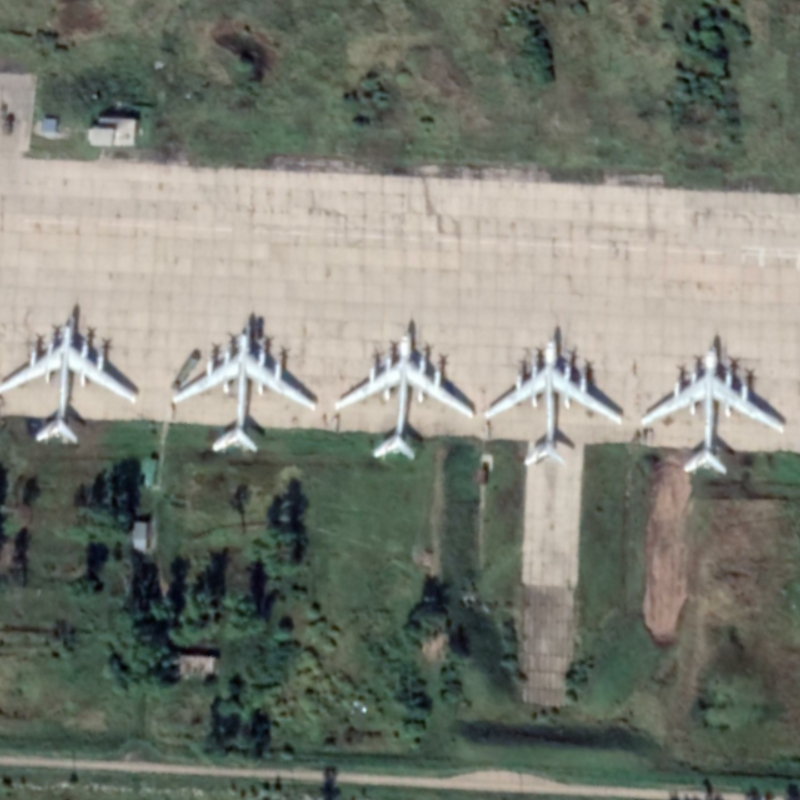A17: (637, 339, 787, 477), (330, 328, 478, 464), (169, 326, 320, 456), (481, 335, 626, 467), (1, 314, 141, 446)
